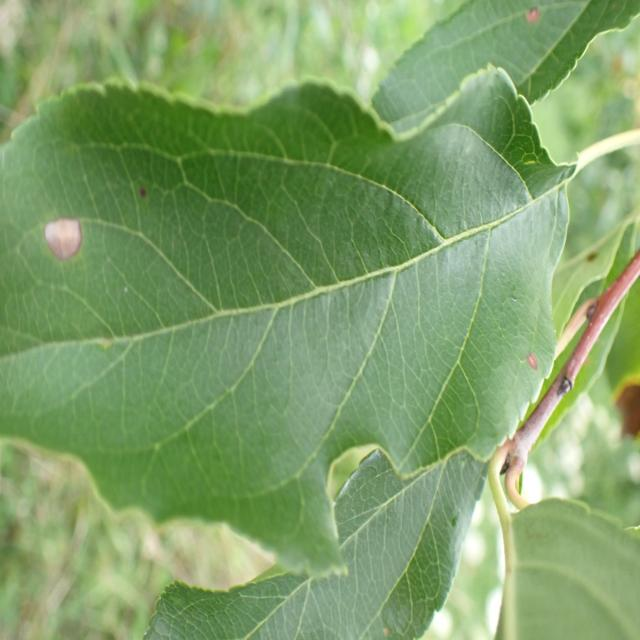Black Rot: (18, 185, 105, 279)
